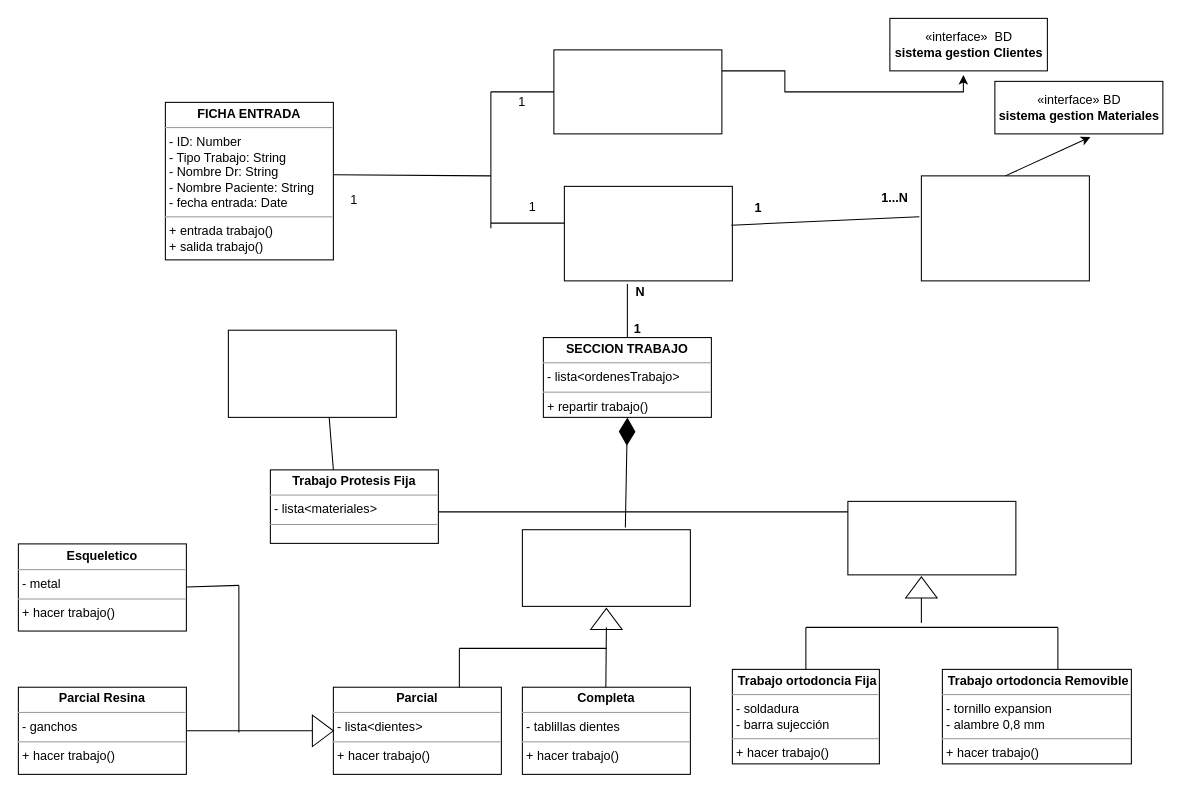
Image size: 1181x793. Some labels were removed from this diagram. Each missing label, with the centre of its shape:
Albaran entrega - Datos ficha entrada + facturar trabajo (): (x=637, y=91)
Coronas - porcelana + hacer trabajo(): (x=311, y=373)
Material - nombre: String - precio: float - cantidadMaterial: int: (x=1004, y=228)
Orden trabajo - Datos ficha entrada - fecha salida: Date: (x=647, y=233)
Trabajo Ortodoncia - lista<materiales>: (x=931, y=537)
Trabajo Protesis Removible - lista<materiales> -resina: (x=605, y=567)
